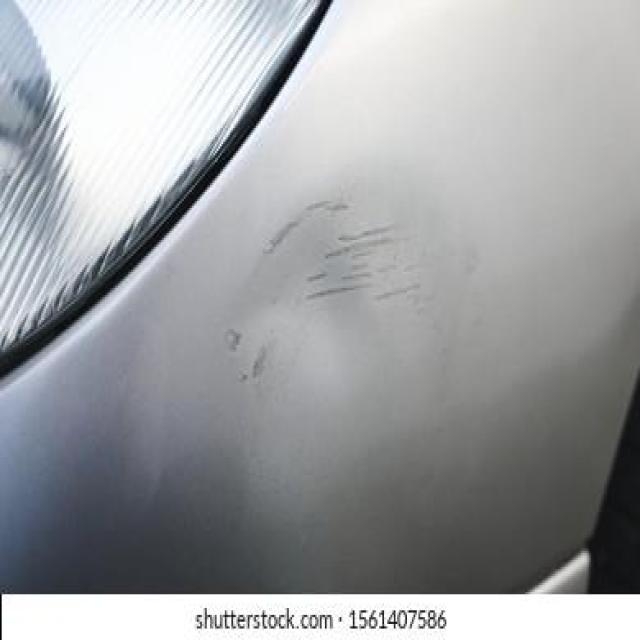dent: (225, 178, 461, 503)
